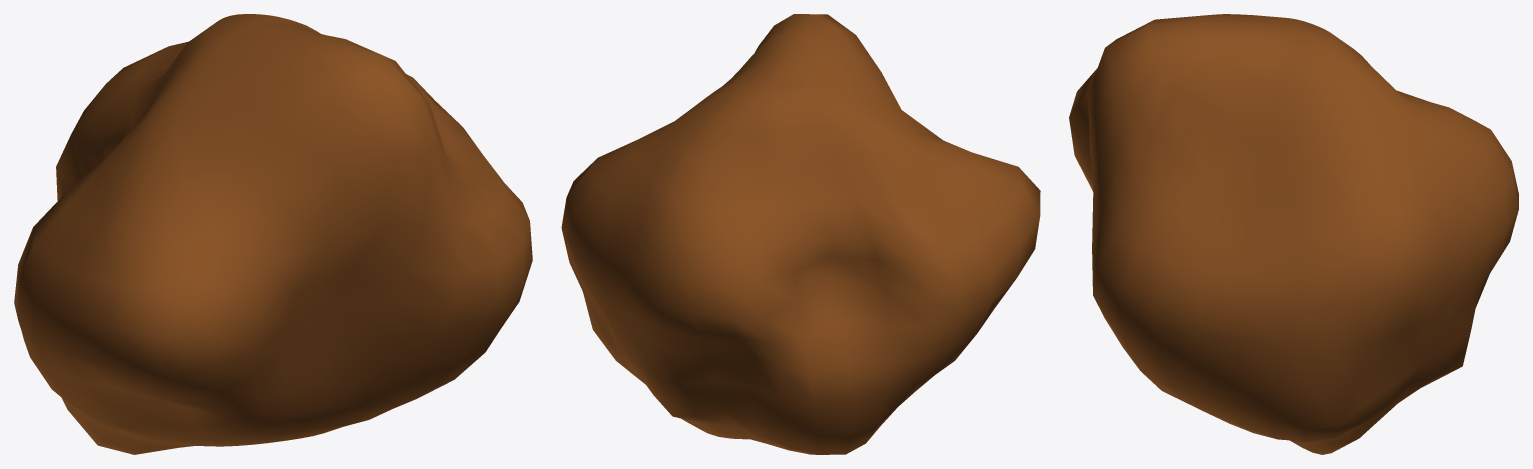
File: Asteroid6.fbx
The picture shows the model from 3 angles, left to right: view 1: azimuth 30°, elevation 25°; view 2: azimuth 150°, elevation 25°; view 3: azimuth 270°, elevation 25°; orthographic projection. The views are drawn at different scales.
Visible parts, largest first — view 1: Sphere; view 2: Sphere; view 3: Sphere.
Boxes of the visible parts, x1,y1,x2,y2 form: Sphere: [14, 14, 532, 454]; Sphere: [561, 14, 1040, 454]; Sphere: [1069, 14, 1518, 454].
Size of the model in its own units: 2.56 by 2.3 by 2.3.
